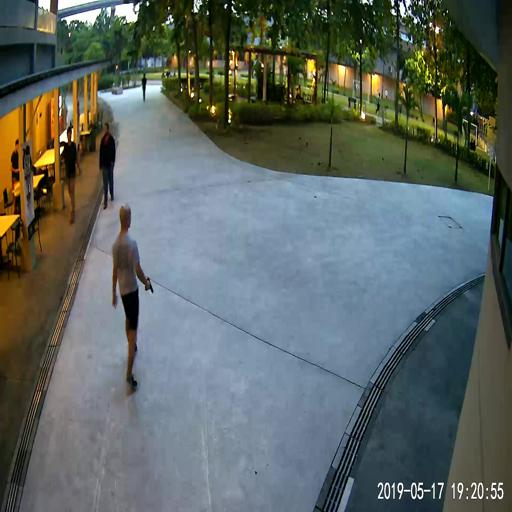pistol: (144, 276, 154, 294)
